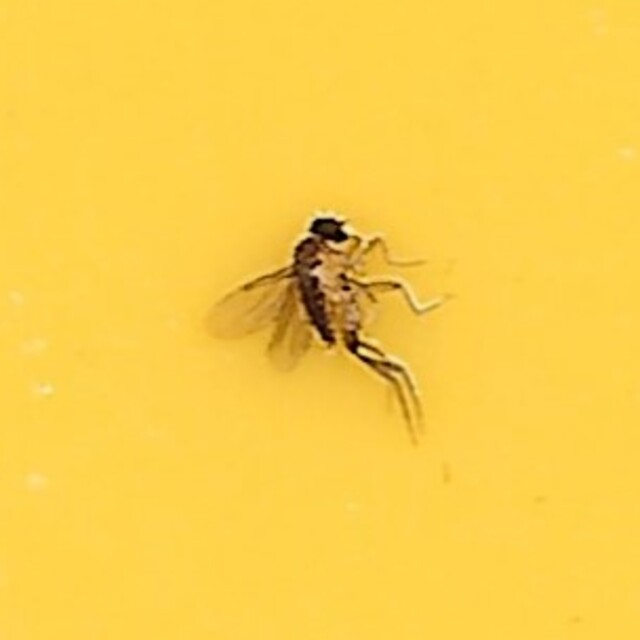Brachycera: (211, 211, 429, 429)
